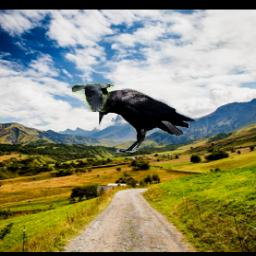Crow: (98, 88, 197, 153), (71, 83, 113, 113)
